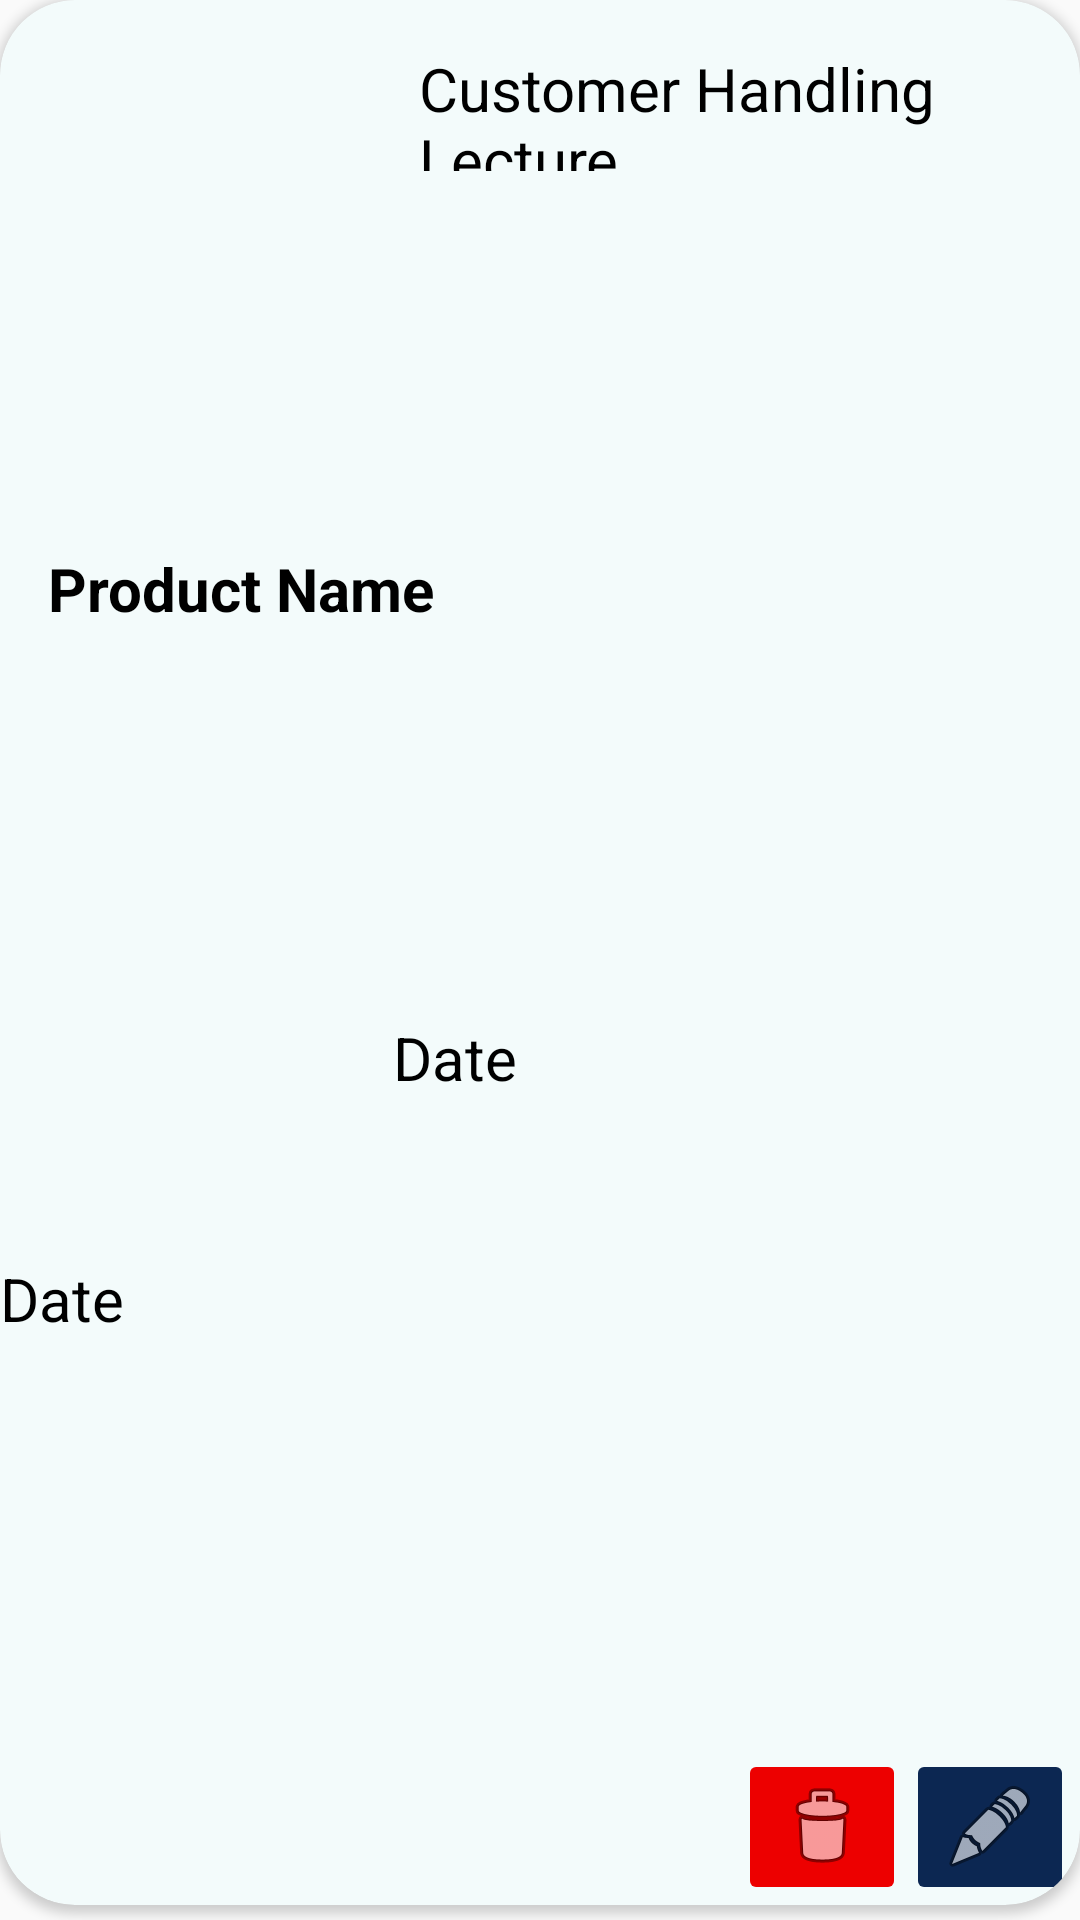

Screen size 1080 × 1920. Icon name, then its box in pixels as (left=x1, top=y1, right=x2, bottom=y2):
delete: (left=750, top=1767, right=894, bottom=1887)
edit: (left=918, top=1767, right=1074, bottom=1905)
